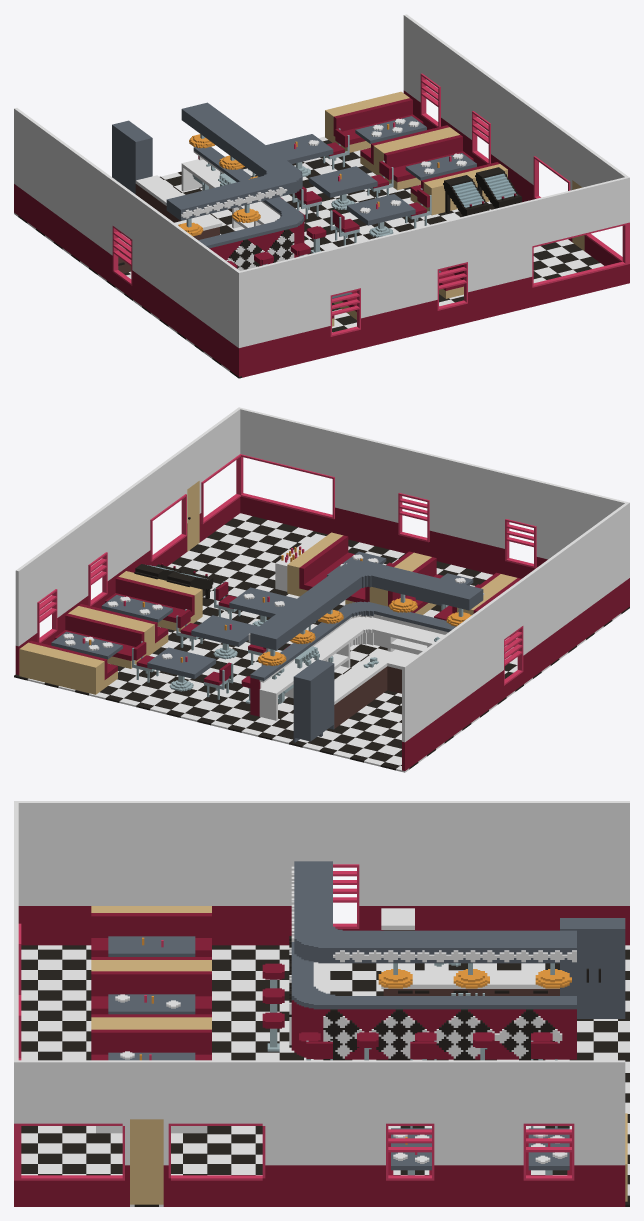
File: Diner combined(1)-0-everything.obj
The picture shows the model from 3 angles, top to bottom: view 1: azimuth 30°, elevation 25°; view 2: azimuth 150°, elevation 25°; view 3: azimuth 270°, elevation 25°; orthographic projection. The views are drawn at different scales.
Parts seen in each view (by area): view 1: everything; view 2: everything; view 3: everything.
Boxes of the visible parts, x1=… form: everything: x1=14, y1=14, x2=629, y2=378; everything: x1=14, y1=407, x2=629, y2=772; everything: x1=14, y1=801, x2=629, y2=1206.
Bounding box in the file's own units: 25.6 × 6.6 × 25.5.
1 material, 1 textured.
